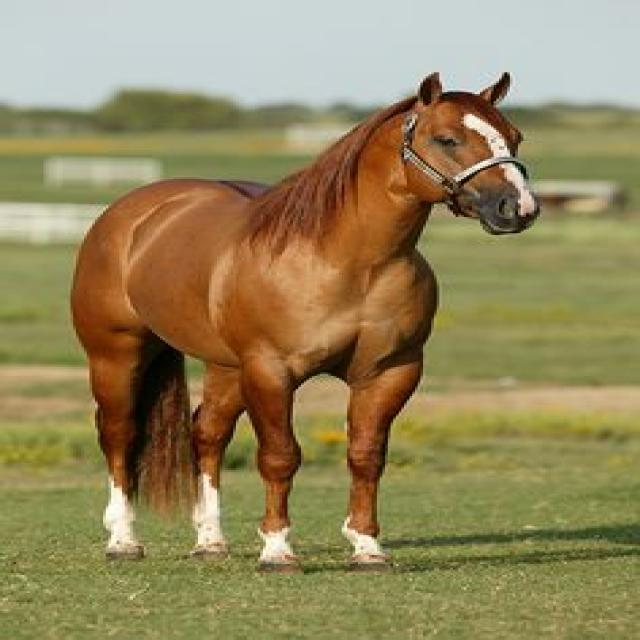Herbivorous: (68, 72, 542, 575)
